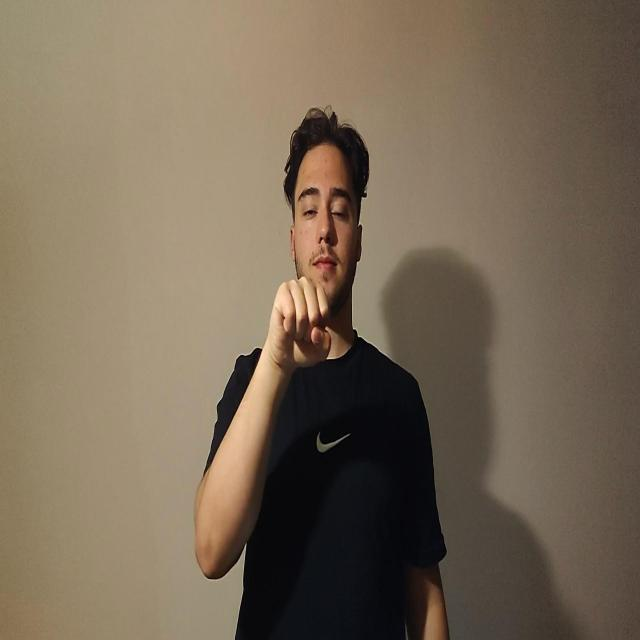yes: (266, 275, 332, 374)
